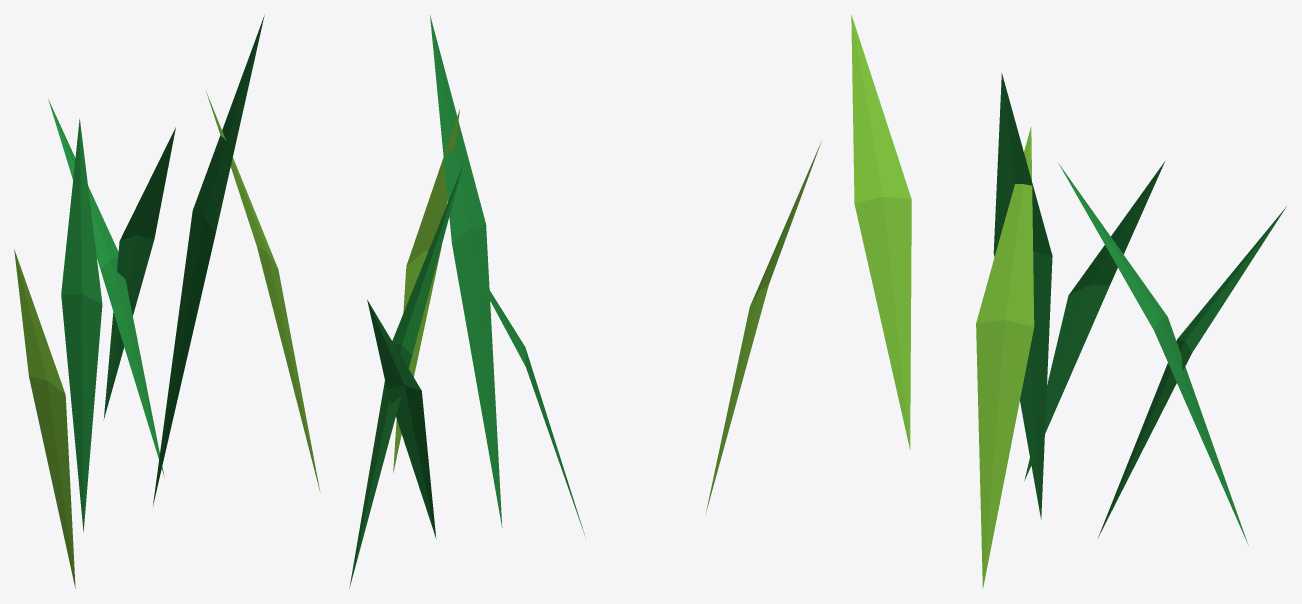
Rendered from grass_tuft_c.fbx.
The picture shows the model from 3 angles, left to right: view 1: azimuth 30°, elevation 25°; view 2: azimuth 150°, elevation 25°; view 3: azimuth 270°, elevation 25°; orthographic projection. The views are drawn at different scales.
Visible parts, largest first — view 1: grass_tuft_c; view 2: grass_tuft_c; view 3: grass_tuft_c.
Part boxes in pixels (bbox=[...]): grass_tuft_c: bbox=[14, 15, 320, 588]; grass_tuft_c: bbox=[349, 15, 821, 588]; grass_tuft_c: bbox=[851, 14, 1286, 587].
Bounding box in the file's own units: 0.4 × 0.5 × 0.4.
